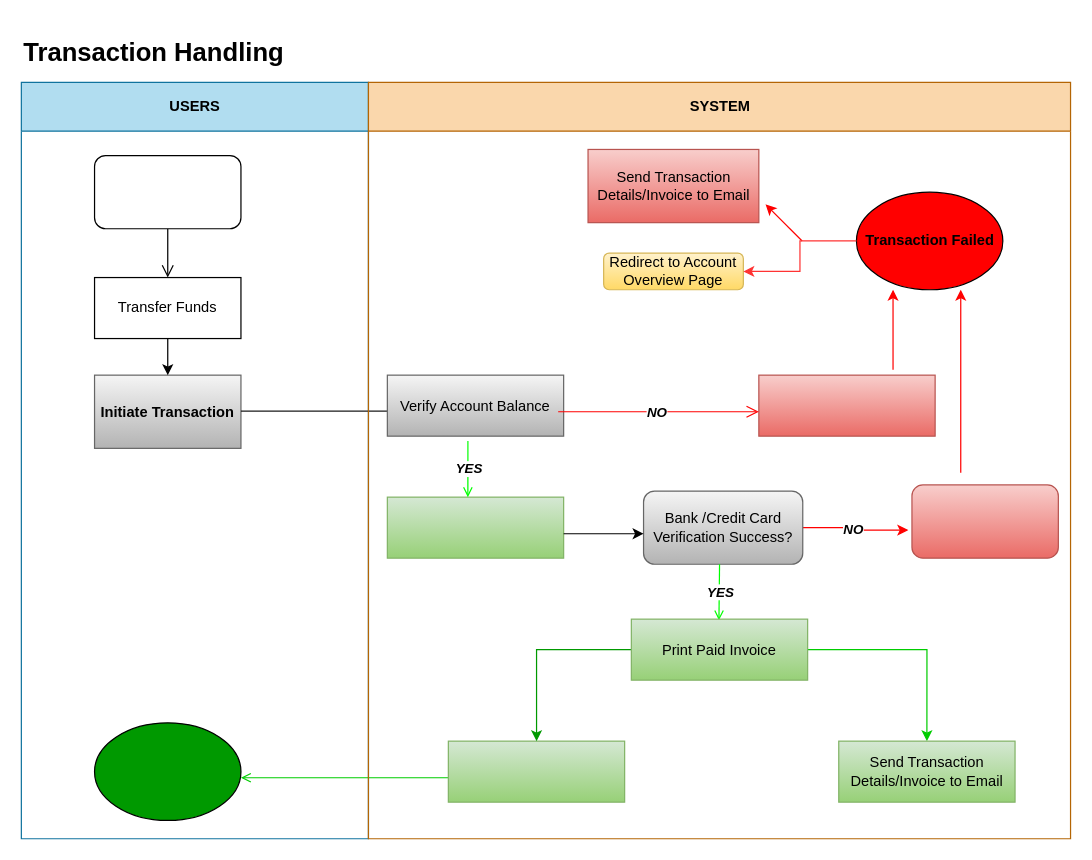
This 1092x860 diagram has some shape labels left out. The shapes that lost their labels are listed below. From the top down, each one's centre as x and y in pixels, then its label:
the point at 167,191: Account Overview Page
the point at 846,405: Insufficient Fund
the point at 475,527: Process Transaction (Generate Invoice)
the point at 984,521: Bank/Credit Card Verification failed
the point at 167,771: Transaction Completed
the point at 536,771: Generate Transaction History
